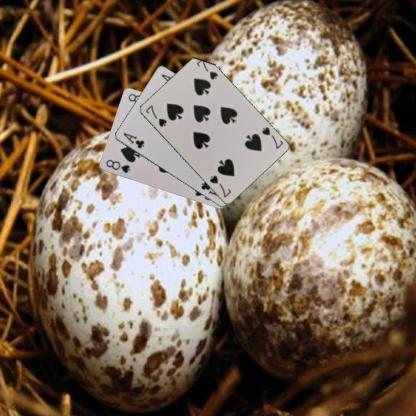7s: (142, 102, 168, 128), (259, 124, 284, 150)
8s: (104, 157, 131, 175)
Ac: (120, 130, 146, 150)
